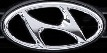Hyundai: (1, 1, 104, 53)
